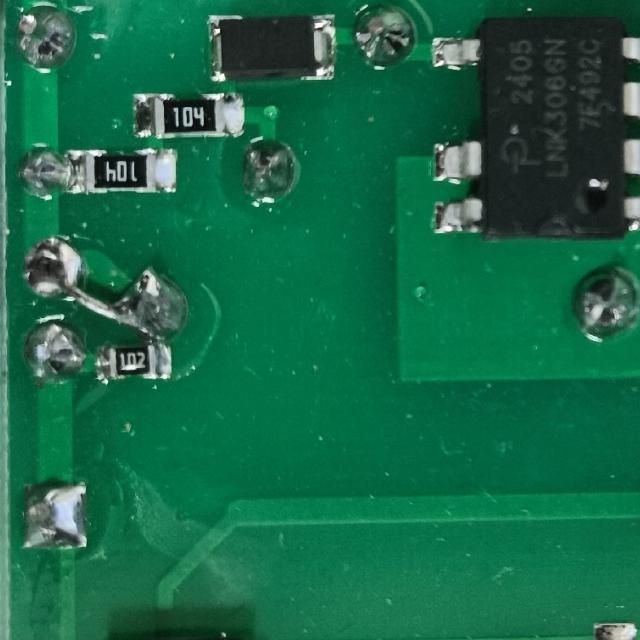chip-resistor: (131, 90, 248, 138), (65, 147, 178, 194), (96, 343, 174, 382)
diode: (206, 13, 337, 84)
ic: (430, 9, 640, 238)
